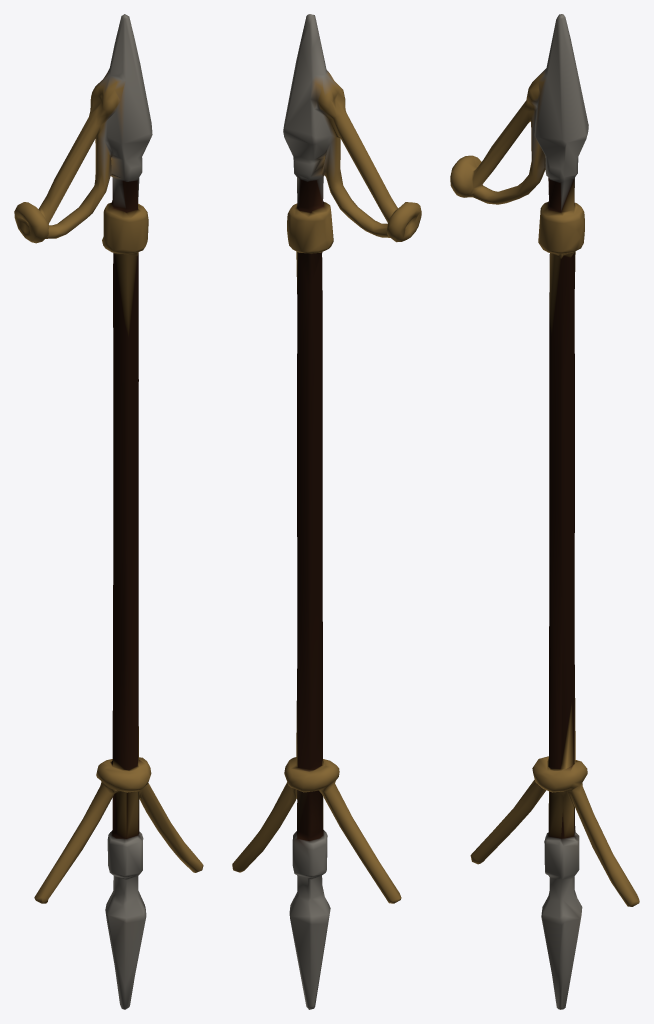
Rendered from gen3d-harpoon-lod1.glb.
3 renders of one model, left to right at view 1: azimuth 30°, elevation 25°; view 2: azimuth 150°, elevation 25°; view 3: azimuth 330°, elevation 25°, orthographic.
Visible parts, largest first — view 1: part_0; view 2: part_0; view 3: part_0.
Boxes of the visible parts, x1,y1,x2,y2 form: part_0: (14,14,203,1009); part_0: (232,14,421,1009); part_0: (450,14,639,1009).
Bounding box in the file's own units: 0.1907 × 1 × 0.05.
